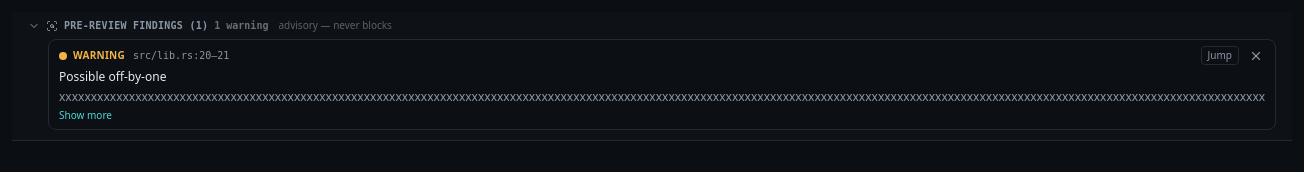
Scenario: FindingsPanel › toggles a long rationale with a show-more control
The width and height of the screenshot is (1304, 172).
Click the button "Show more": (86,115) top-left (59, 109), bottom-right (112, 122)
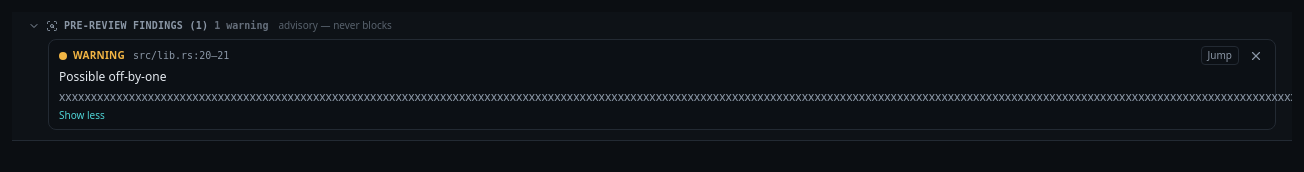
expect the button "Show less" is shown: met, box top-left (59, 109), bottom-right (105, 122)
